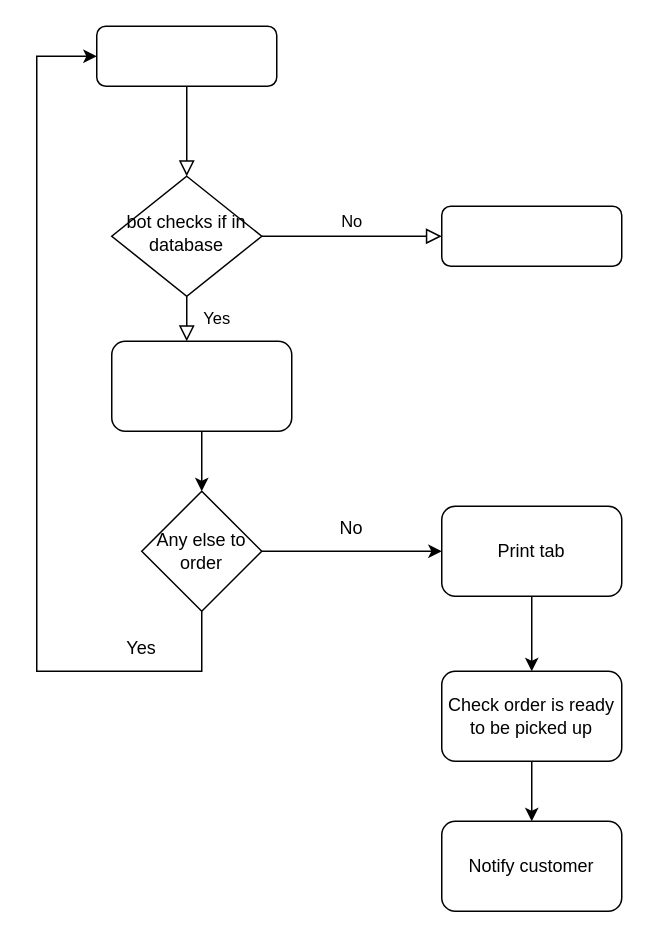
This 648x938 diagram has some shape labels left out. The shapes that lost their labels are listed below. From the top down, each one's centre as x and y in pixels, then its label:
At [186,55]: "user enter order".
At [531,235]: "Ask for another order".
At [201,385]: "Takes order".
